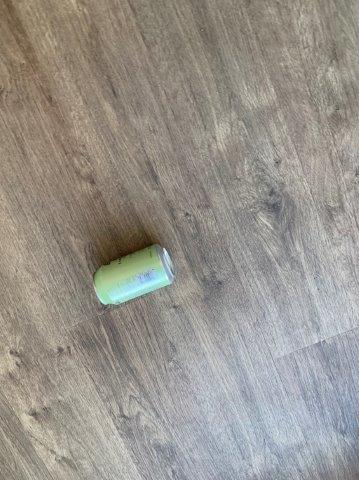kaleng: (94, 245, 173, 304)
